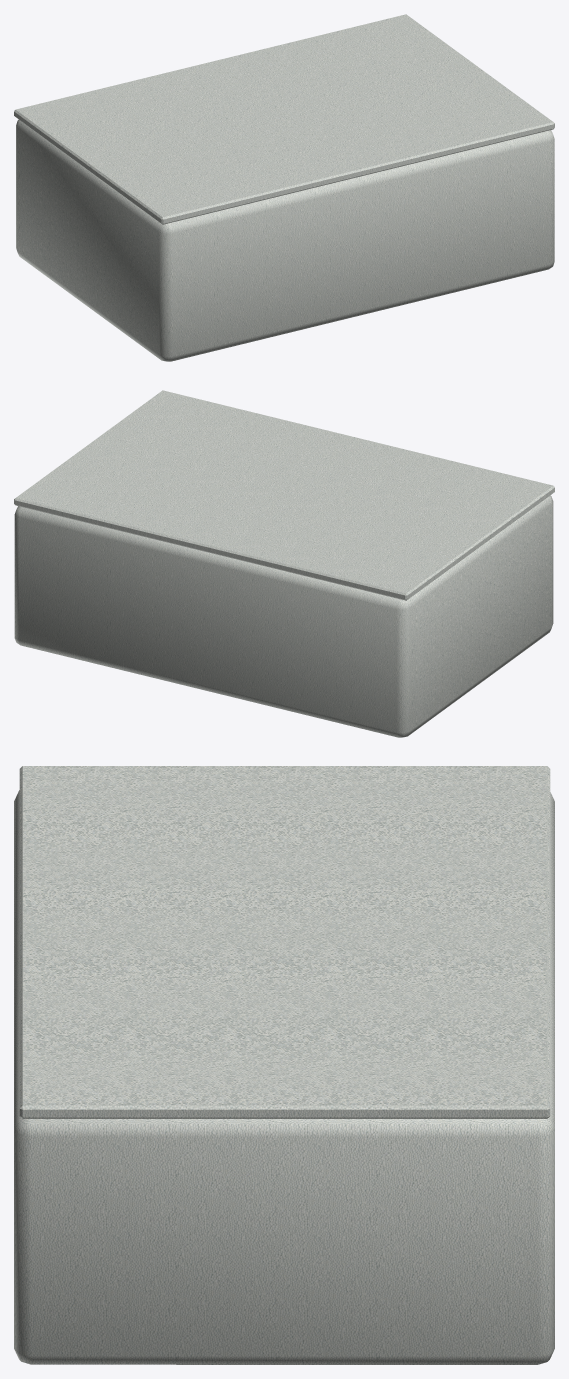
Rendered from styrofoam.fbx.
3 renders of one model, top to bottom at view 1: azimuth 30°, elevation 25°; view 2: azimuth 150°, elevation 25°; view 3: azimuth 270°, elevation 25°, orthographic. The views are drawn at different scales.
Visible parts, largest first — view 1: styrofoam; view 2: styrofoam; view 3: styrofoam.
Part boxes in pixels (x1,y1,x2,y2): styrofoam: [14, 14, 554, 361]; styrofoam: [14, 390, 554, 737]; styrofoam: [14, 766, 554, 1364].
Bounding box in the file's own units: 46.89 × 16.79 × 31.23.
